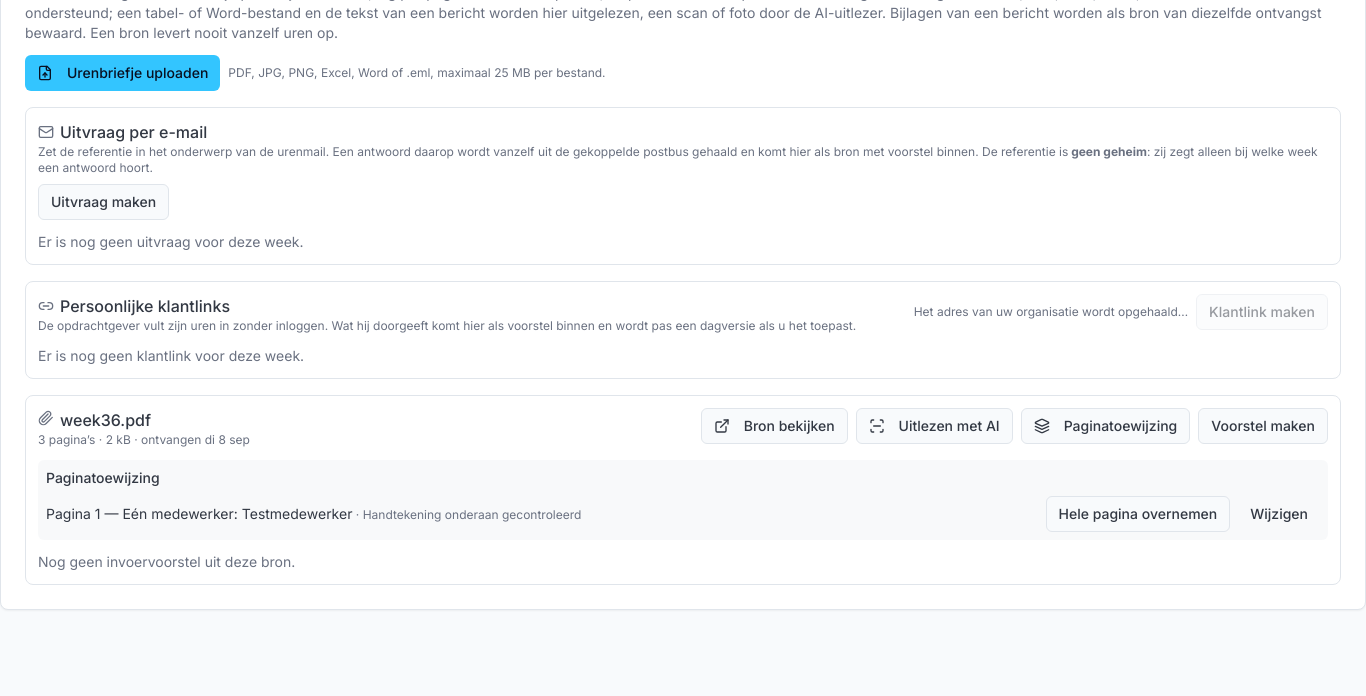
internal hours intake › keeps an existing page explanation when the decision is edited
The image size is (1366, 696).
Later steps or results of the test are not shown.
Click the button "Wijzigen": click(1279, 514) [1238, 496, 1320, 532]
(page scrolled)
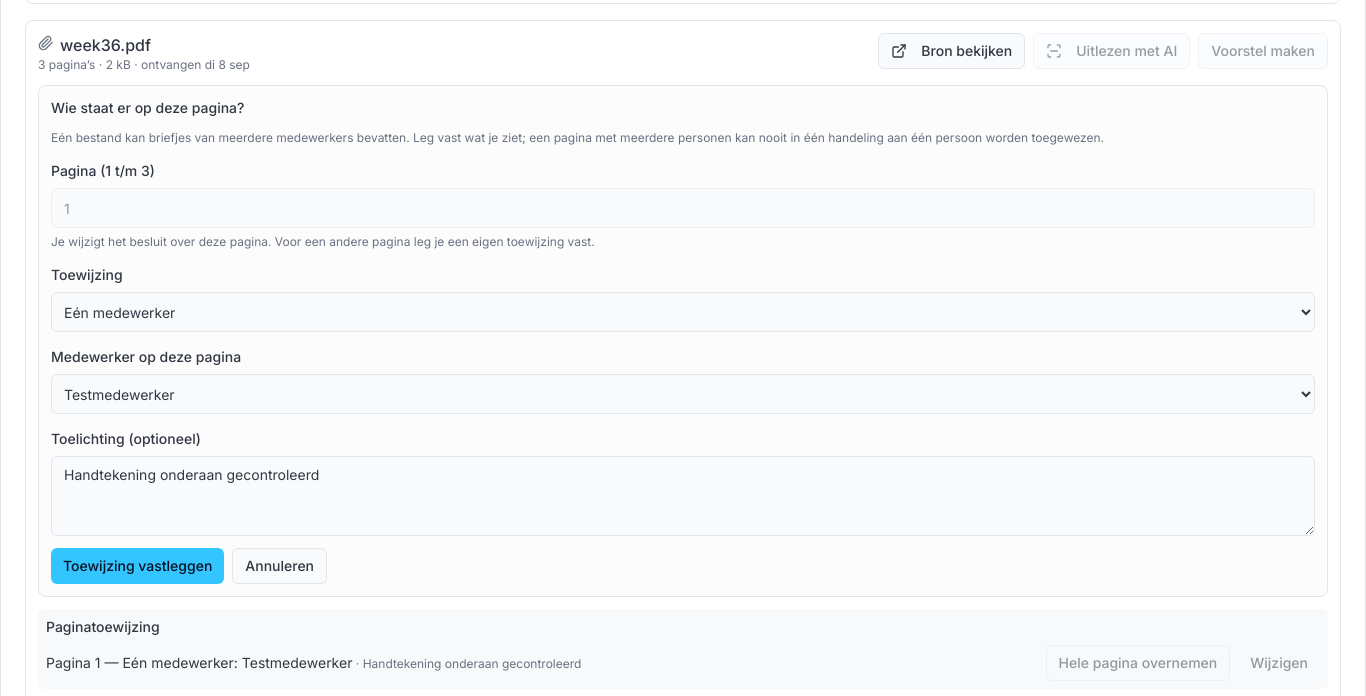
Check: the text box labelled "Toelichting (optioneel)" holds "Handtekening onderaan gecontroleerd", box [51, 456, 1315, 536]
Check: the field labelled "Pagina (1 t/m 3)" is disabled, box [51, 188, 1315, 228]
